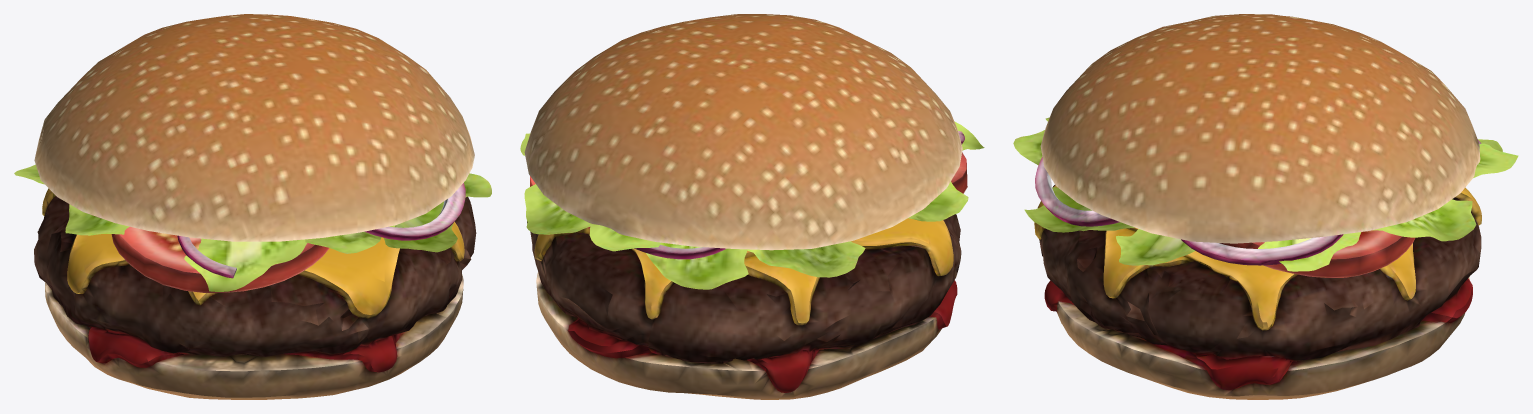
Rendered from burger.glb.
The picture shows the model from 3 angles, left to right: view 1: azimuth 30°, elevation 25°; view 2: azimuth 150°, elevation 25°; view 3: azimuth 270°, elevation 25°; orthographic projection.
Visible parts, largest first — view 1: Hamburger; view 2: Hamburger; view 3: Hamburger.
Boxes of the visible parts, x1=… form: Hamburger: x1=14, y1=14, x2=491, y2=399; Hamburger: x1=520, y1=14, x2=984, y2=399; Hamburger: x1=1013, y1=14, x2=1518, y2=399.
Size of the model in its own units: 0.3033 by 0.2019 by 0.3248.
Materials: 1 (1 with a texture image).
